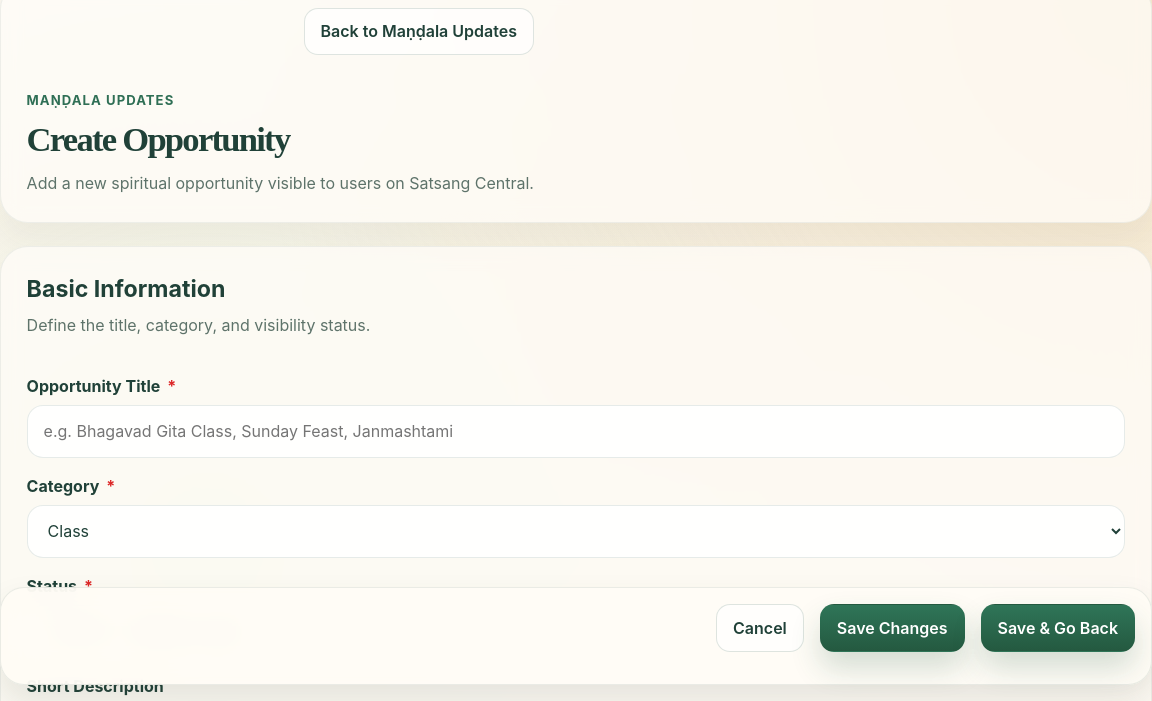
Test: MandalaOpportunityEditorPage › validates that available modes, languages, and days cannot be empty for CLASS
Type "Gita Study Circle" into the field labelled "Opportunity Title *" at {"x": 576, "y": 431}, box [27,405,1125,458]
(page scrolled)
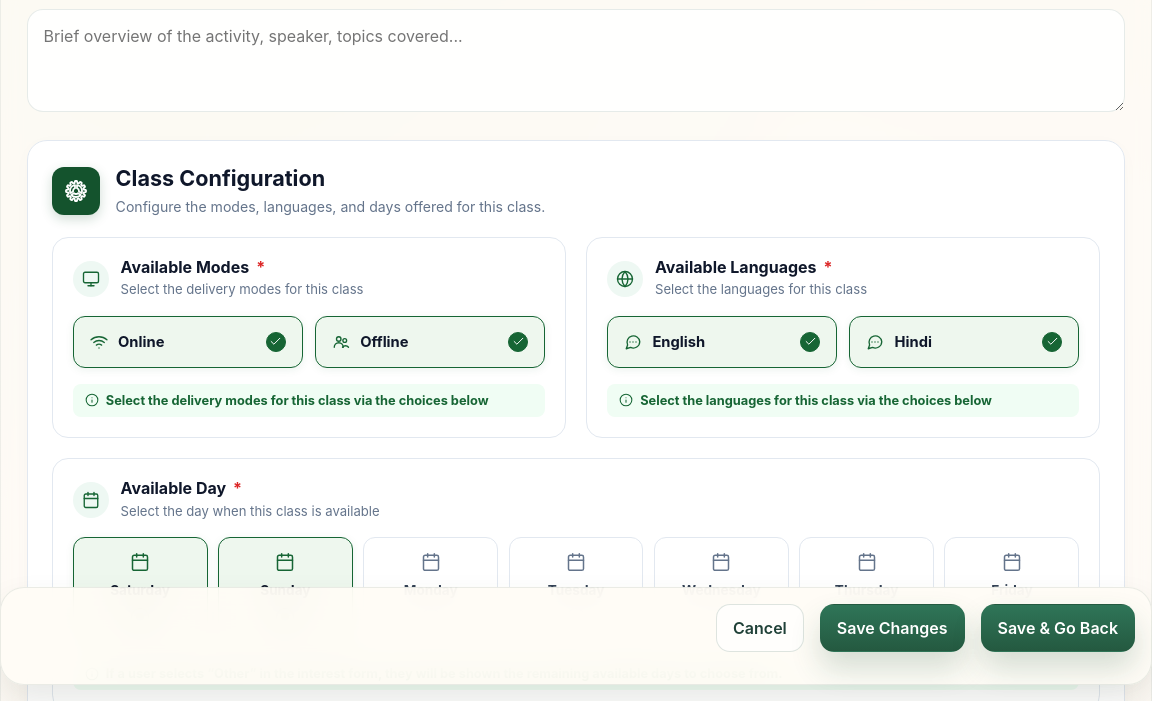
// Uncheck modes
Click the checkbox labelled "Online" at {"x": 188, "y": 342}, box [73,316,303,368]
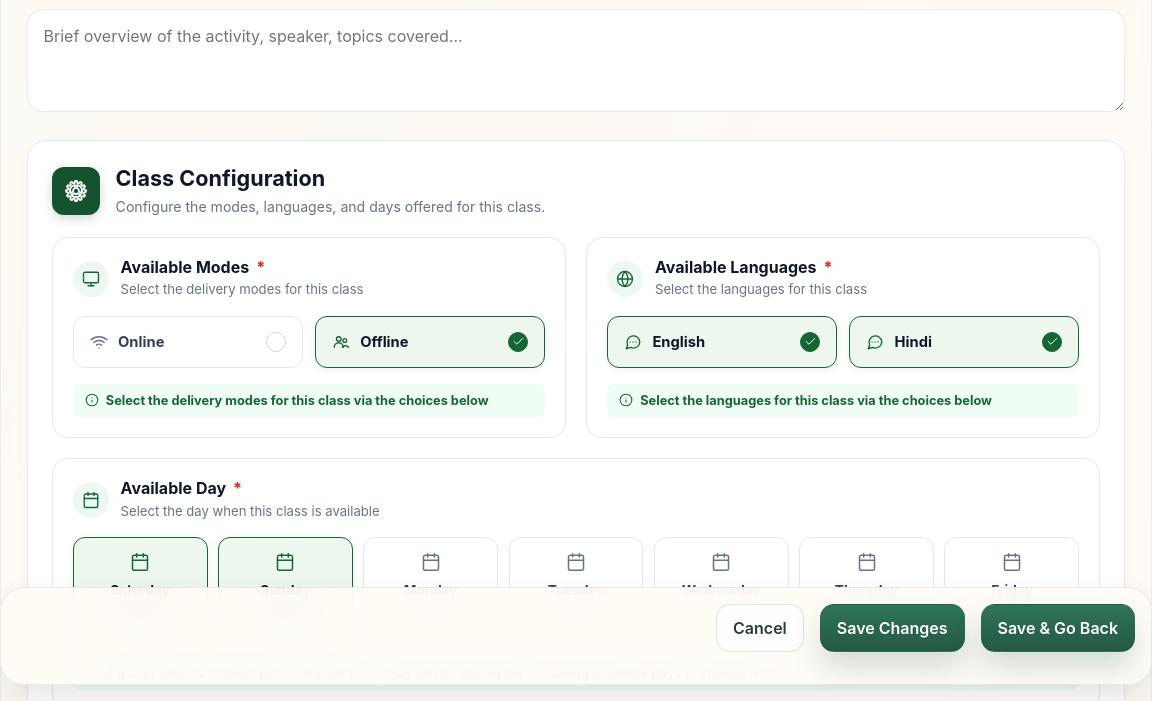
Click the checkbox labelled "Offline" at {"x": 430, "y": 342}, box [315,316,545,368]
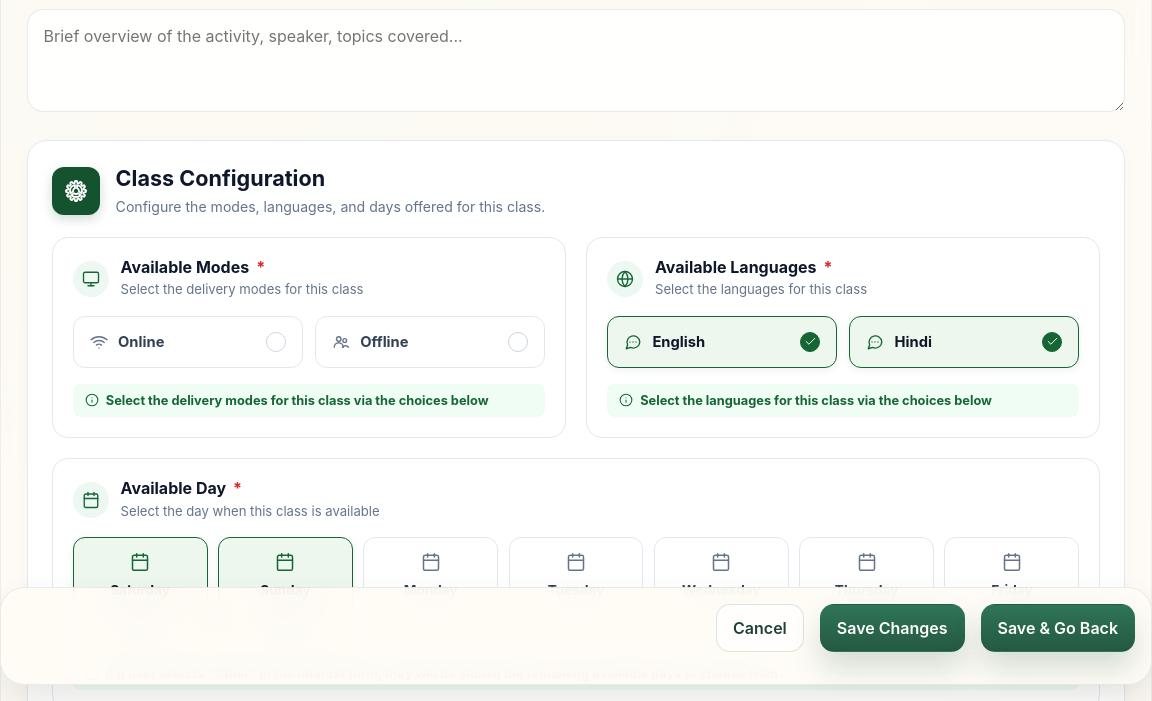
Click the button "Save & Go Back" at {"x": 1058, "y": 628}, box [980,604,1135,652]
(page scrolled)
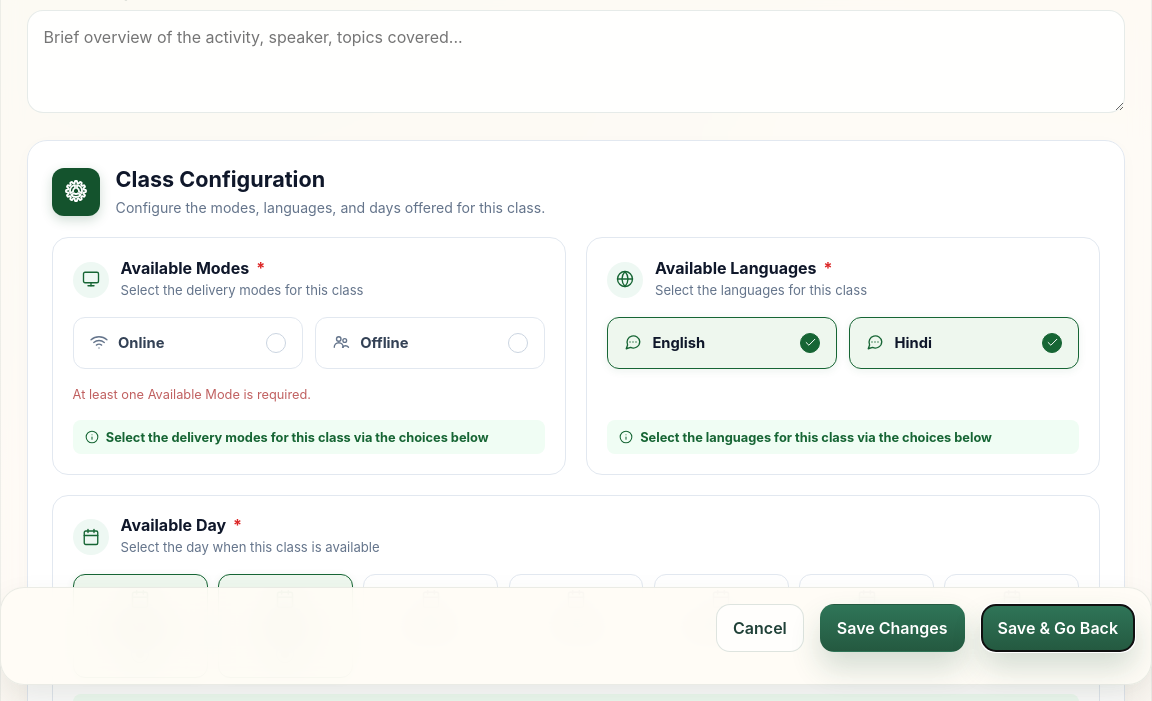
Now the text "At least one Available Mode is required." is shown, box [73,387,311,402]
